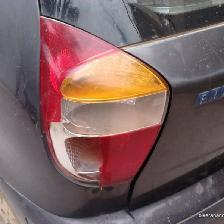broken_part: (48, 64, 122, 182)
